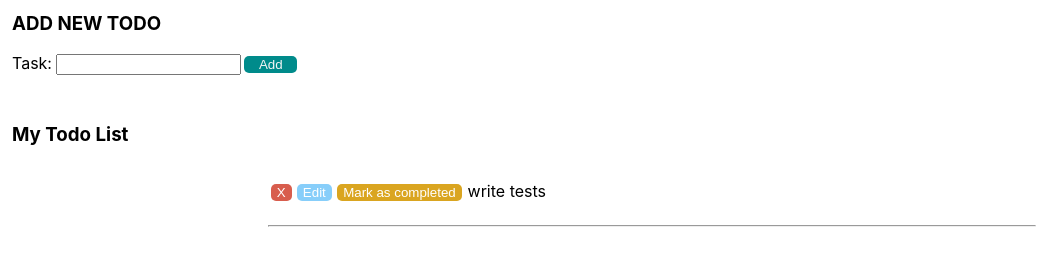
Test: can edit a todo
Click the button "Edit" at x=314, y=193, box [297, 184, 332, 201]
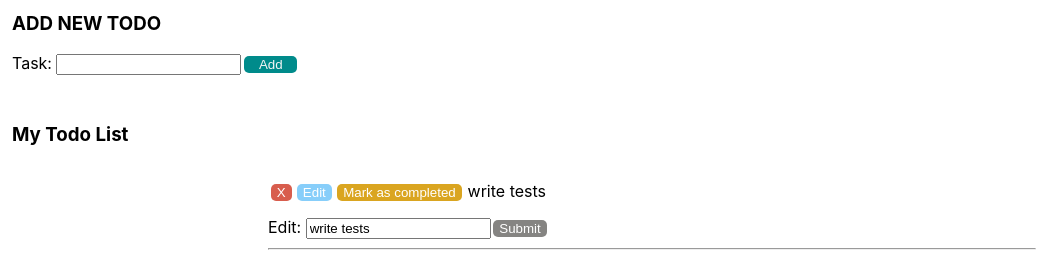
Replace the text in the field showing "write tests" with "sleep" at x=398, y=229, box [306, 218, 491, 239]
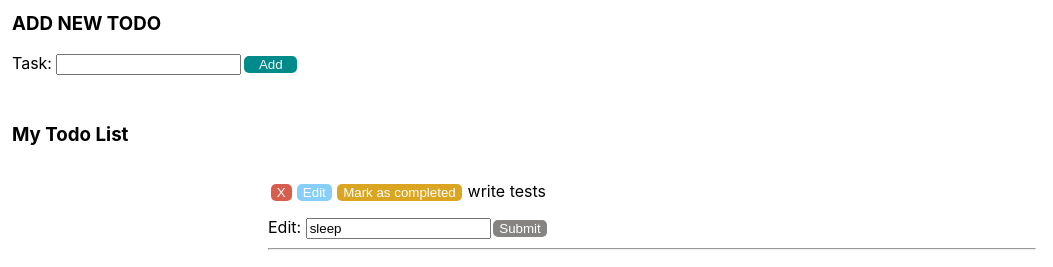
Click the button "Submit" at x=520, y=229, box [493, 220, 547, 237]
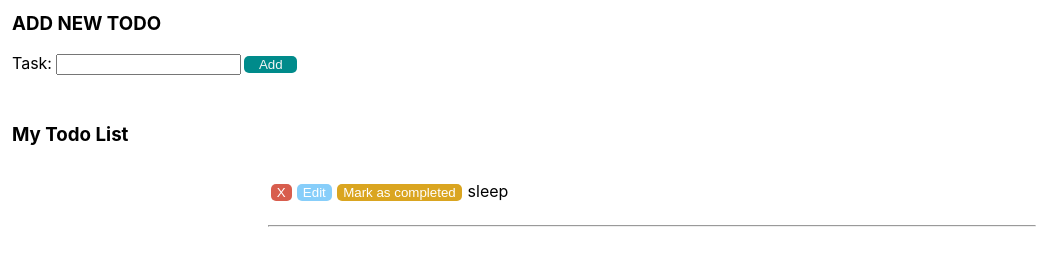
Check: the text "sleep" is shown, box [468, 181, 508, 201]
Check: the text "write tests" is gone
